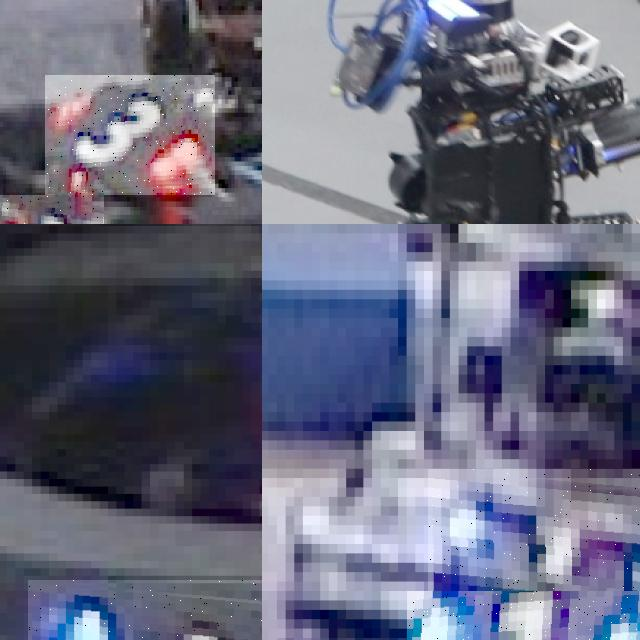B1: (428, 468, 640, 591), (27, 579, 262, 640), (407, 591, 640, 640)
R3: (45, 75, 215, 195), (0, 195, 104, 224)
